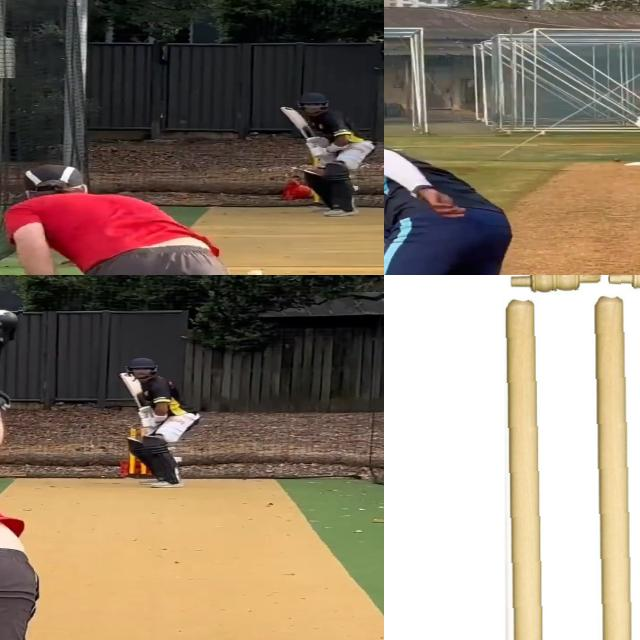Cricket ball: (0, 307, 23, 330), (247, 268, 265, 275), (613, 158, 621, 163)
Stumps: (495, 275, 640, 640)
